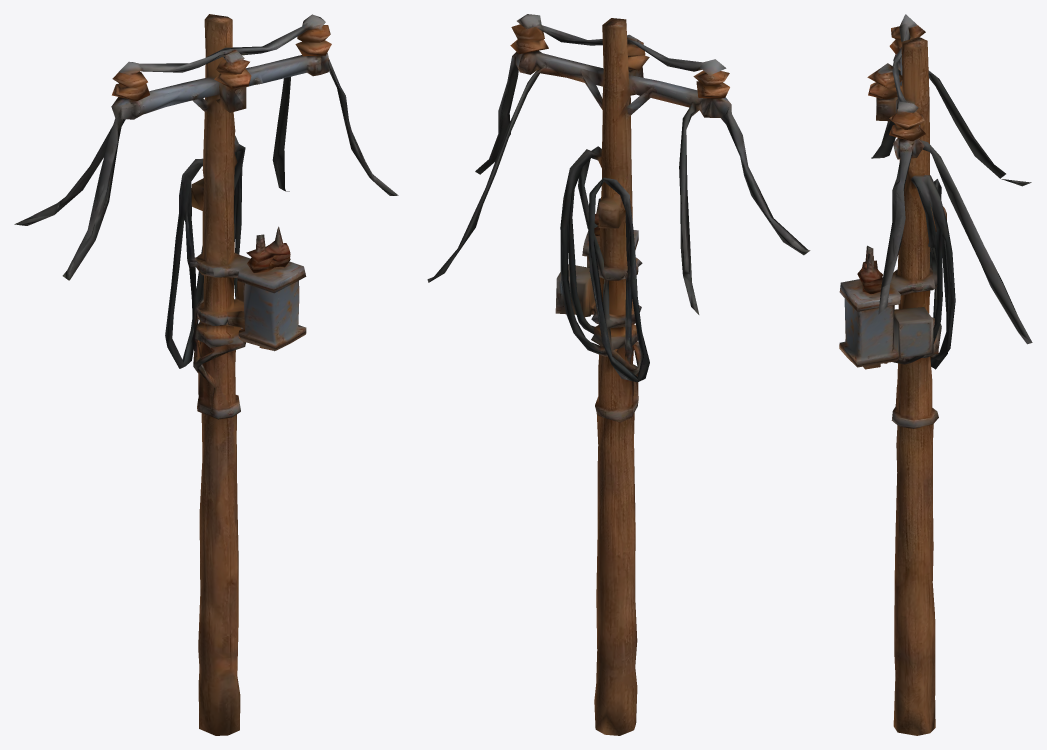
The model's file is pole.glb.
3 views of the same model, side by side, from view 1: azimuth 30°, elevation 25°; view 2: azimuth 150°, elevation 25°; view 3: azimuth 270°, elevation 25° (orthographic). The views are drawn at different scales.
Parts seen in each view (by area): view 1: tripo_node_ac50299f-4e6a-4793-9213-c26f554a567a; view 2: tripo_node_ac50299f-4e6a-4793-9213-c26f554a567a; view 3: tripo_node_ac50299f-4e6a-4793-9213-c26f554a567a.
Boxes of the visible parts, box(x1,y1,x2,y2) form: tripo_node_ac50299f-4e6a-4793-9213-c26f554a567a: box(14, 14, 398, 735); tripo_node_ac50299f-4e6a-4793-9213-c26f554a567a: box(427, 14, 810, 735); tripo_node_ac50299f-4e6a-4793-9213-c26f554a567a: box(839, 14, 1032, 735).
Bounding box in the file's own units: 0.4928 × 1 × 0.2558.
1 material, 1 textured.
